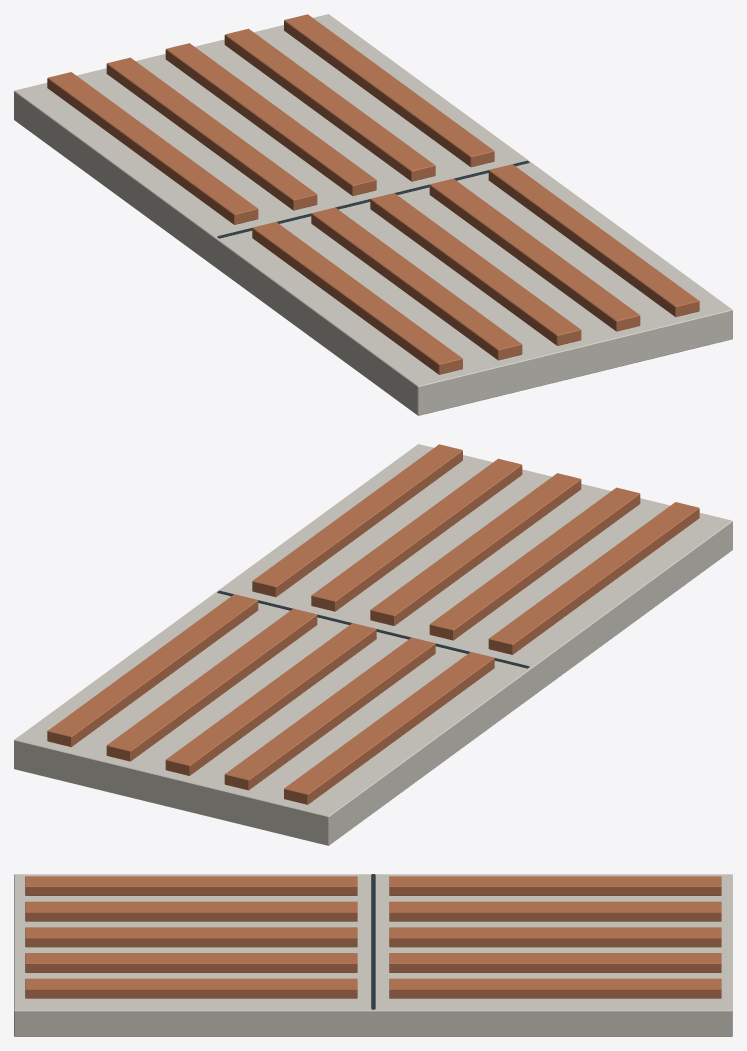
File: b13_directional_ribbed_guidance_paving.glb
The picture shows the model from 3 angles, top to bottom: view 1: azimuth 30°, elevation 25°; view 2: azimuth 150°, elevation 25°; view 3: azimuth 270°, elevation 25°; orthographic projection. The views are drawn at different scales.
Visible parts, largest first — view 1: b13_directional_ribbed_guidance_paving; view 2: b13_directional_ribbed_guidance_paving; view 3: b13_directional_ribbed_guidance_paving.
Part boxes in pixels (x1,y1,x2,y2): b13_directional_ribbed_guidance_paving: (14, 14, 732, 415); b13_directional_ribbed_guidance_paving: (14, 444, 732, 845); b13_directional_ribbed_guidance_paving: (14, 874, 732, 1036).
Size of the model in its own units: 0.72 by 0.089 by 1.6.
